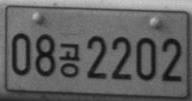0: (135, 37, 157, 81), (11, 31, 31, 76)
2: (110, 36, 132, 79), (86, 34, 107, 79), (161, 37, 182, 81)
8: (34, 32, 55, 77)
공: (59, 42, 80, 79)
